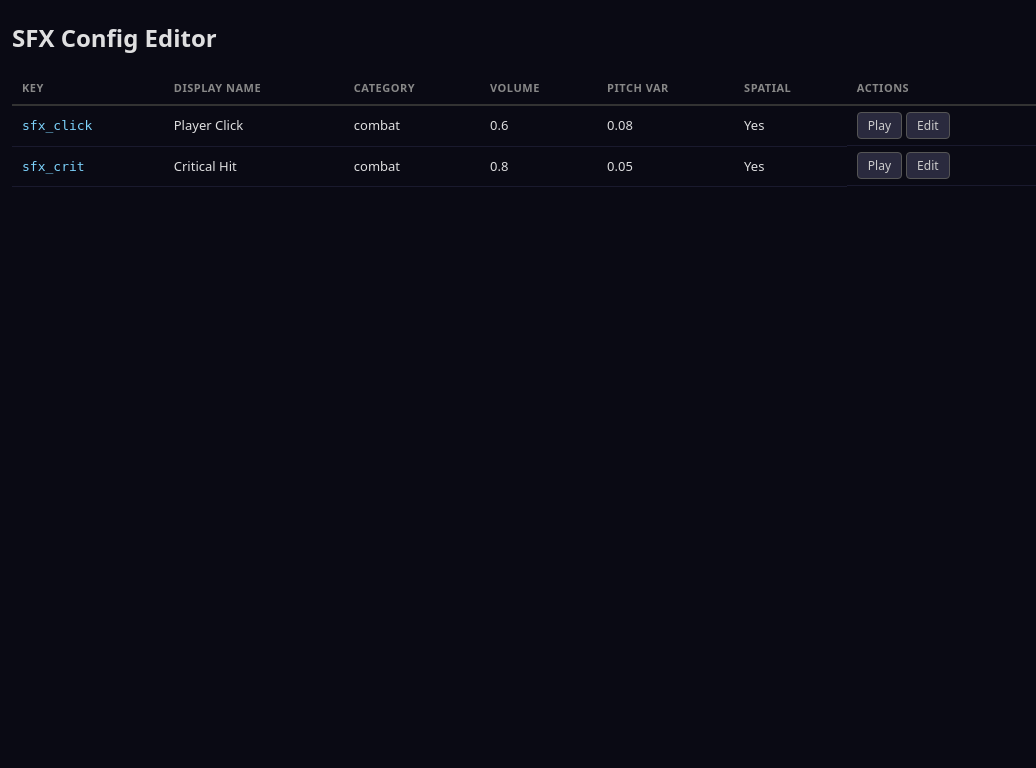
Test: SFXConfigEditor › shows cancel button in edit panel
The image size is (1036, 768).
Expected: the text "sfx_click" is shown, [12,105,164,146]
Click the button "Edit" in the row of "sfx_click".
click(928, 126)  # box [906,112,950,139]
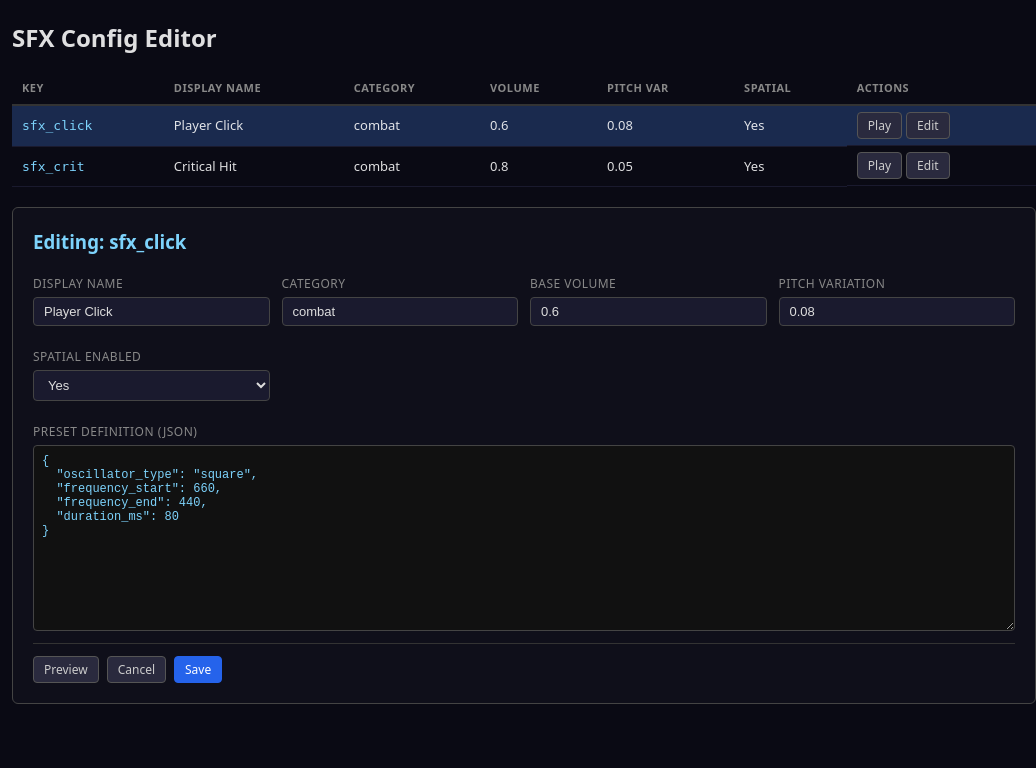
Expected: the button "Cancel" is shown
Click the button "Cancel".
click(136, 669)  # box [107,656,166,683]
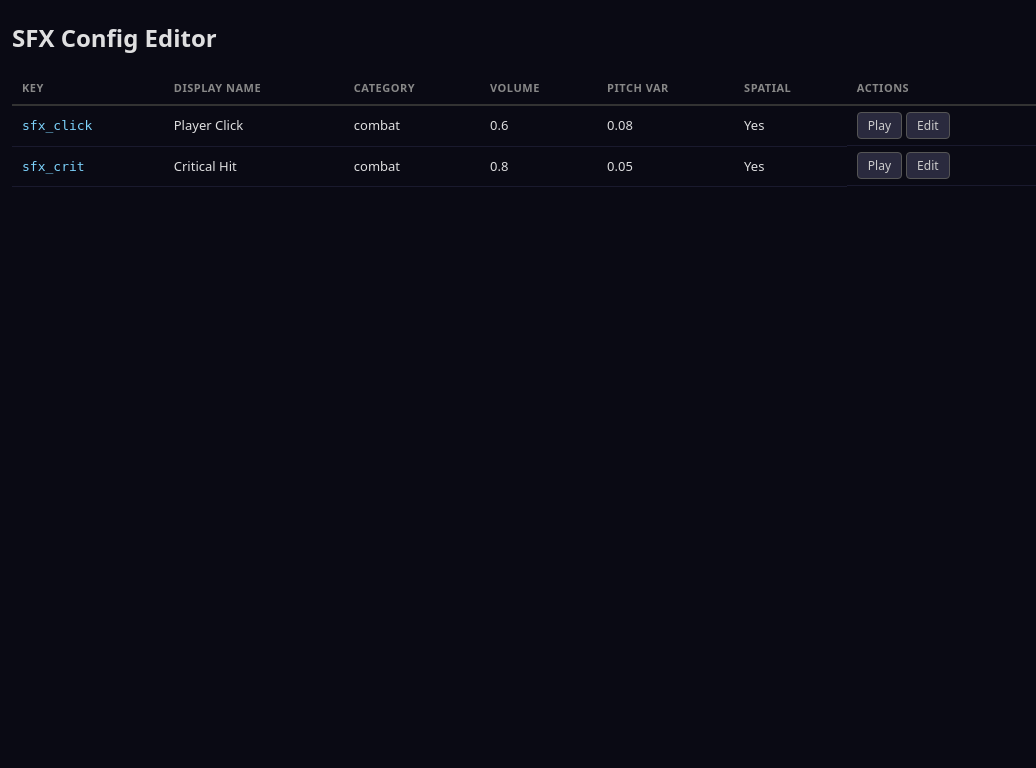
Expected: the heading "Editing:" is gone
